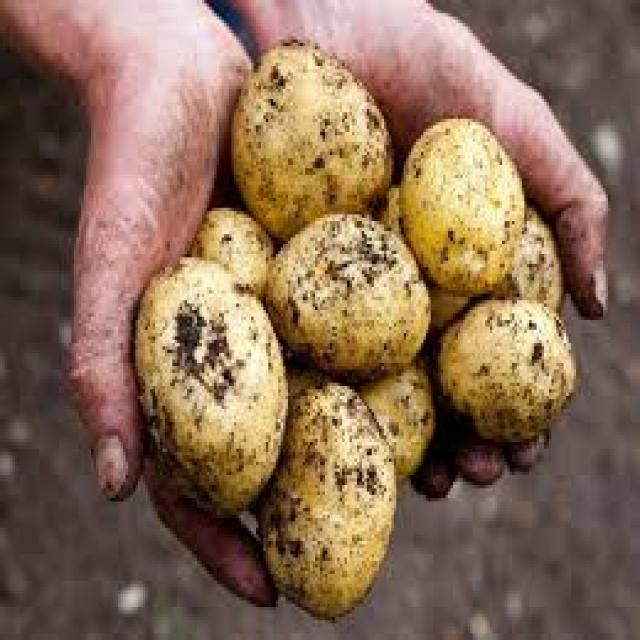Wet Waste: (253, 55, 436, 338), (156, 274, 289, 490)
